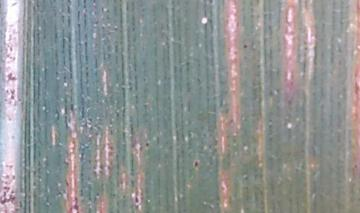tarspot: (191, 157, 201, 172), (134, 193, 142, 208), (241, 42, 250, 53), (145, 140, 151, 152), (206, 1, 216, 7)
